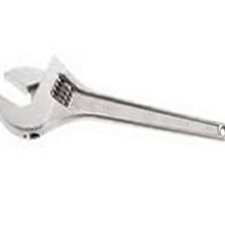wrench: (2, 44, 225, 158)
